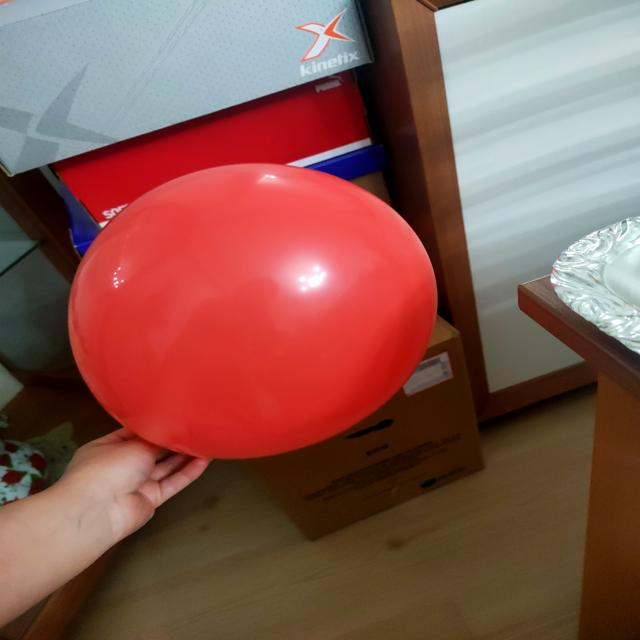red: (70, 165, 438, 461)
